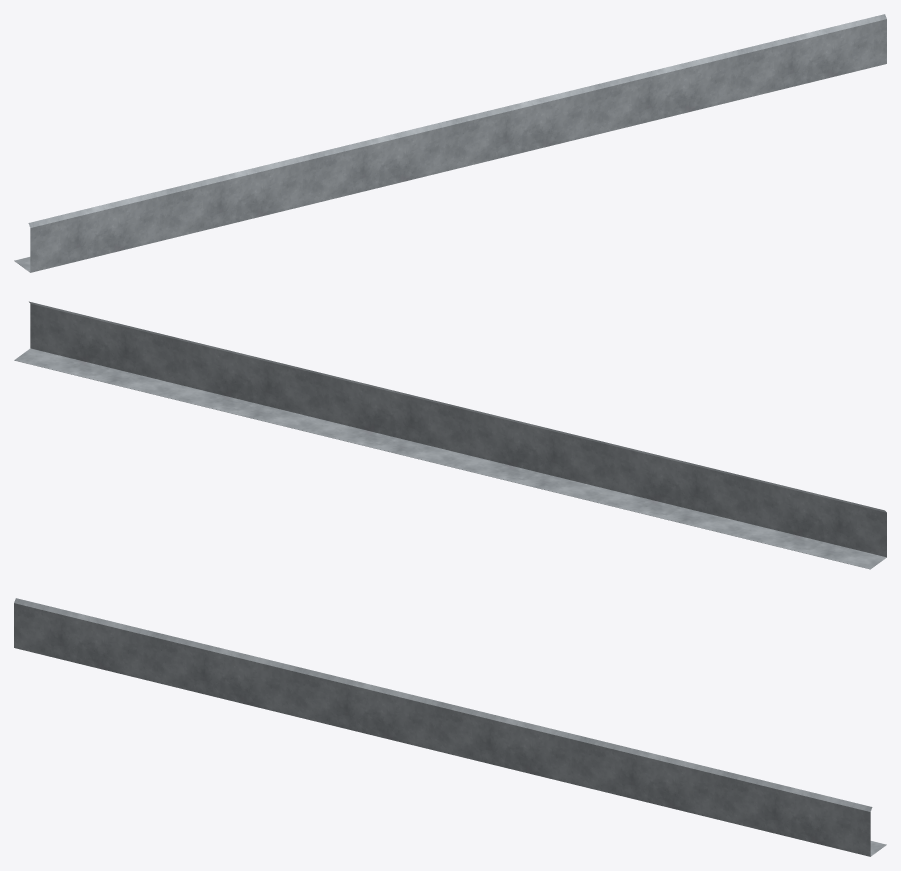
The model's file is COB-CAL-003.glb.
The picture shows the model from 3 angles, top to bottom: view 1: azimuth 30°, elevation 25°; view 2: azimuth 150°, elevation 25°; view 3: azimuth 330°, elevation 25°; orthographic projection.
Parts seen in each view (by area): view 1: COB-CAL-003_perfil; view 2: COB-CAL-003_perfil; view 3: COB-CAL-003_perfil.
Part boxes in pixels (x1,y1,x2,y2): COB-CAL-003_perfil: (14,14,886,272); COB-CAL-003_perfil: (14,301,886,569); COB-CAL-003_perfil: (14,598,886,856).
Bounding box in the file's own units: 3 × 0.1621 × 0.1.
Materials: 1 (1 with a texture image).
